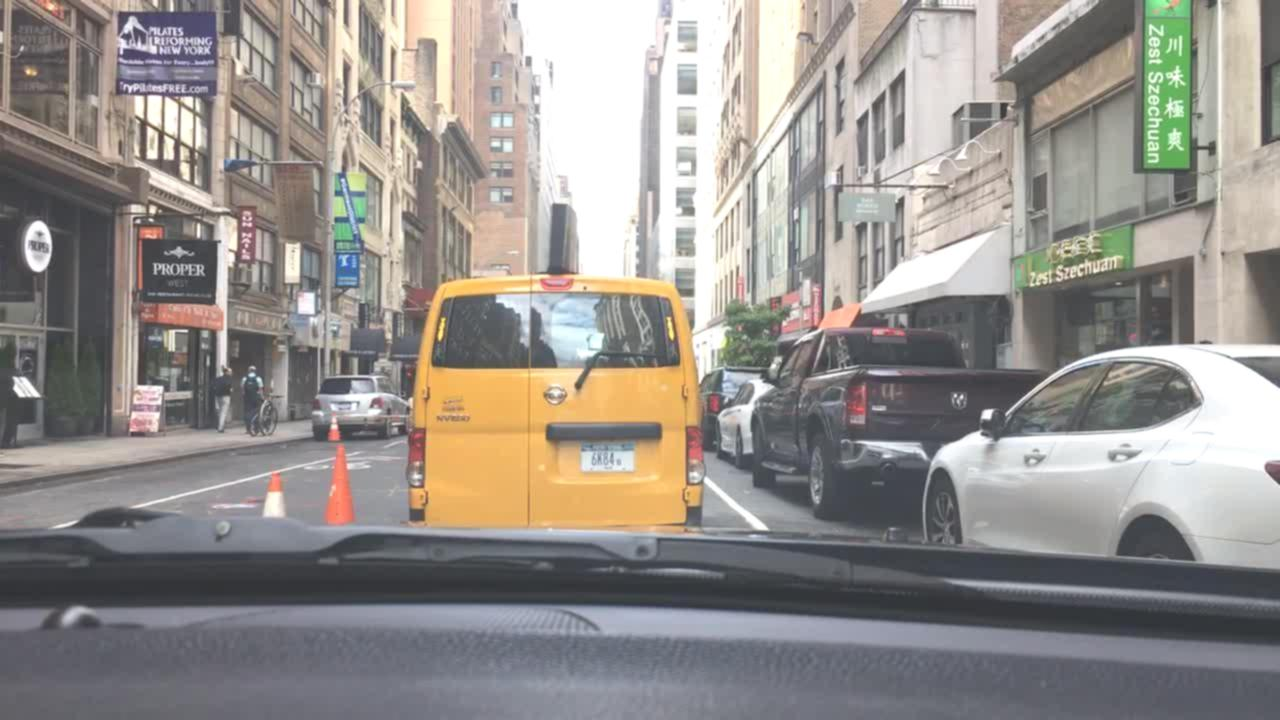Nissan: (541, 381, 568, 407)
ram: (950, 387, 970, 414)
